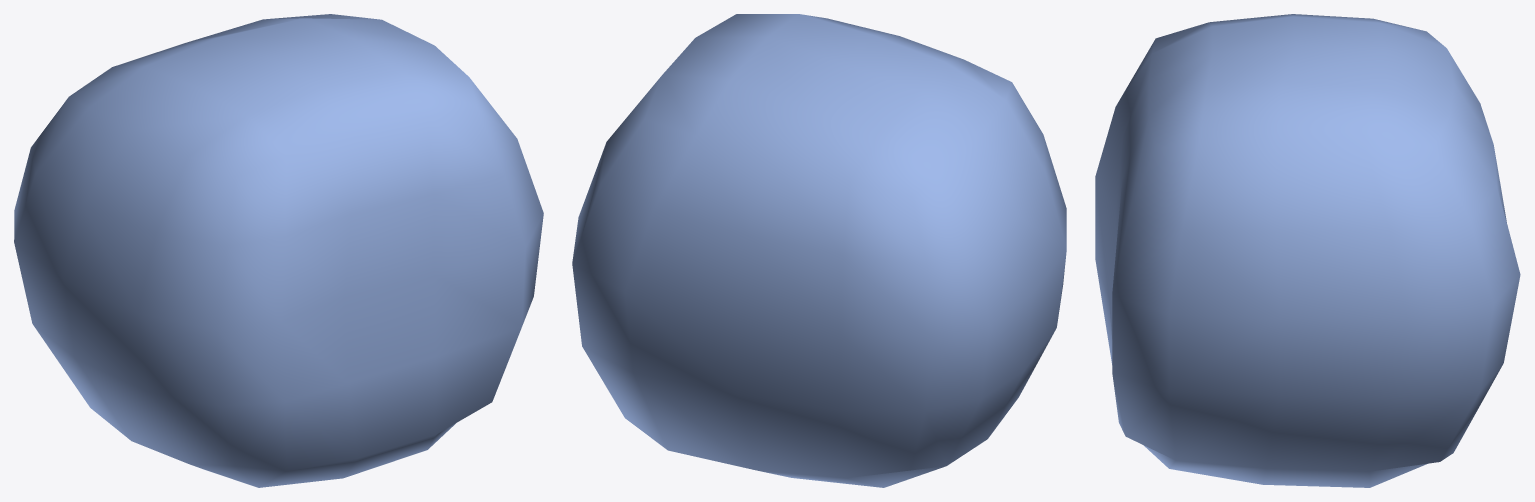
Rendered from candy_assets25.fbx.
The picture shows the model from 3 angles, left to right: view 1: azimuth 30°, elevation 25°; view 2: azimuth 150°, elevation 25°; view 3: azimuth 270°, elevation 25°; orthographic projection. The views are drawn at different scales.
Parts seen in each view (by area): view 1: candy_assets25; view 2: candy_assets25; view 3: candy_assets25.
Part boxes in pixels (left/top/right/bottom): candy_assets25: left=14, top=14, right=543, bottom=487; candy_assets25: left=572, top=14, right=1066, bottom=487; candy_assets25: left=1095, top=14, right=1520, bottom=487.
Bounding box in the file's own units: 404 × 362 × 347.
Materials: 1 (1 with a texture image).
